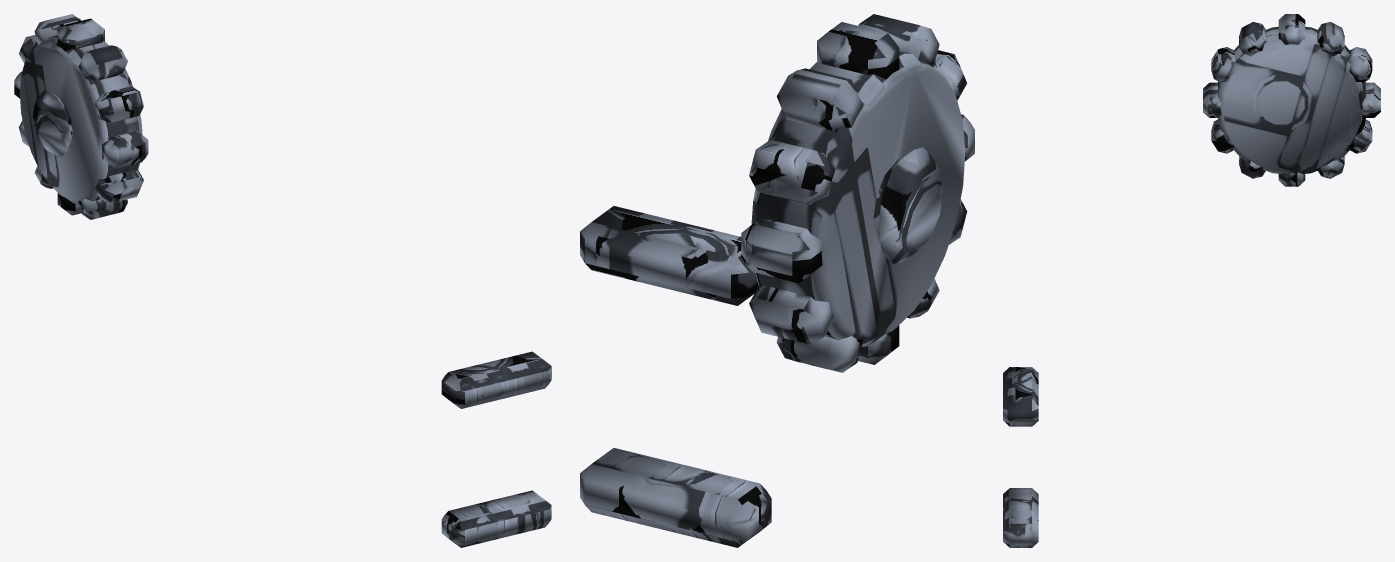
Rendered from Remache_AntebrazoDer_Acero.fbx.
3 renders of one model, left to right at view 1: azimuth 30°, elevation 25°; view 2: azimuth 150°, elevation 25°; view 3: azimuth 270°, elevation 25°, orthographic. The views are drawn at different scales.
Visible parts, largest first — view 1: Remache_AntebrazoDer_Acero; view 2: Remache_AntebrazoDer_Acero; view 3: Remache_AntebrazoDer_Acero.
Part boxes in pixels (<box>): Remache_AntebrazoDer_Acero: <box>14,14,551,547</box>; Remache_AntebrazoDer_Acero: <box>580,14,974,547</box>; Remache_AntebrazoDer_Acero: <box>1003,14,1380,547</box>.
Size of the model in its own units: 1.39 by 1.77 by 1.52.
